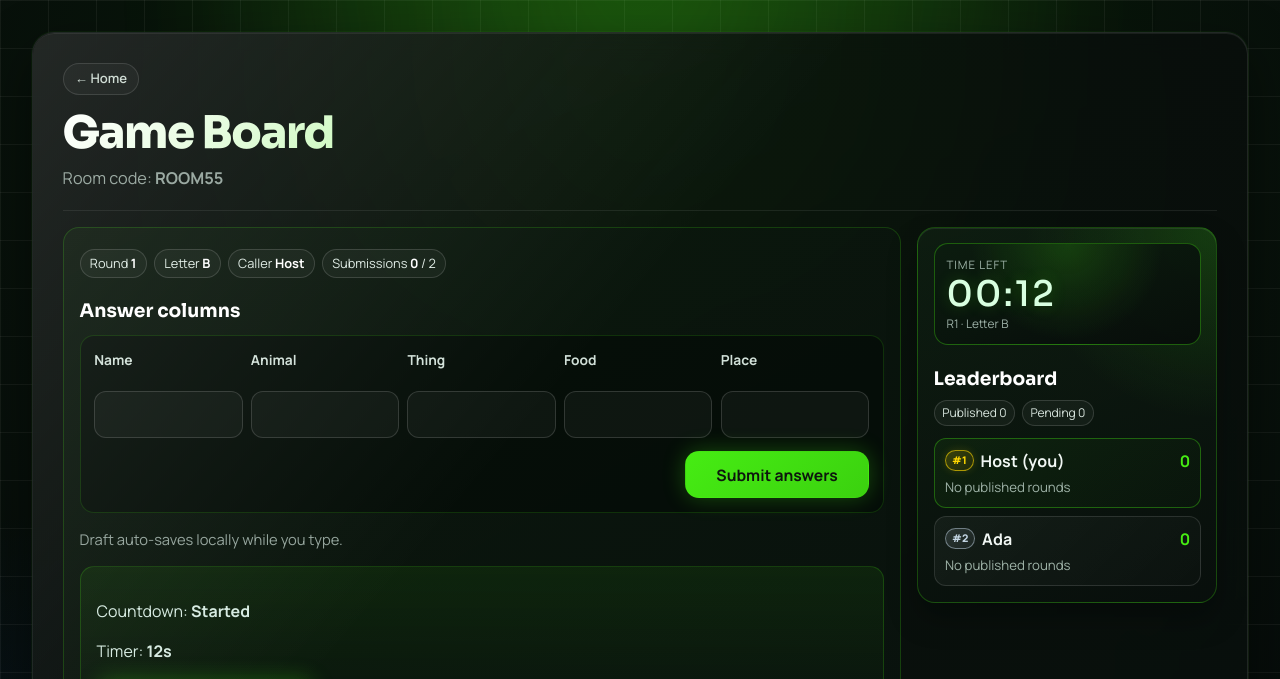
Test: functional: phase 2 round flow › recovers from submit response failure when server already recorded the submission
Type "Bola" into the 1st field named "Name" at (168, 415), box [94,391,242,438]
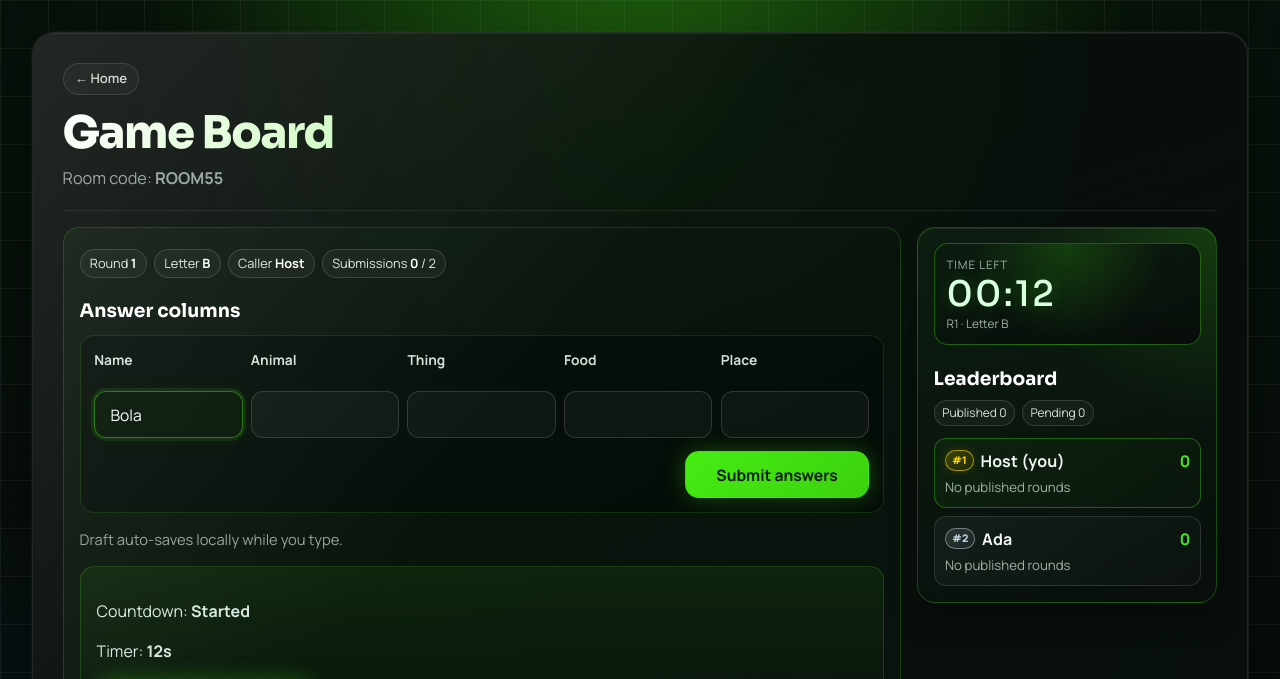
Click the button "Submit answers" at (777, 475), box [685,452,869,498]
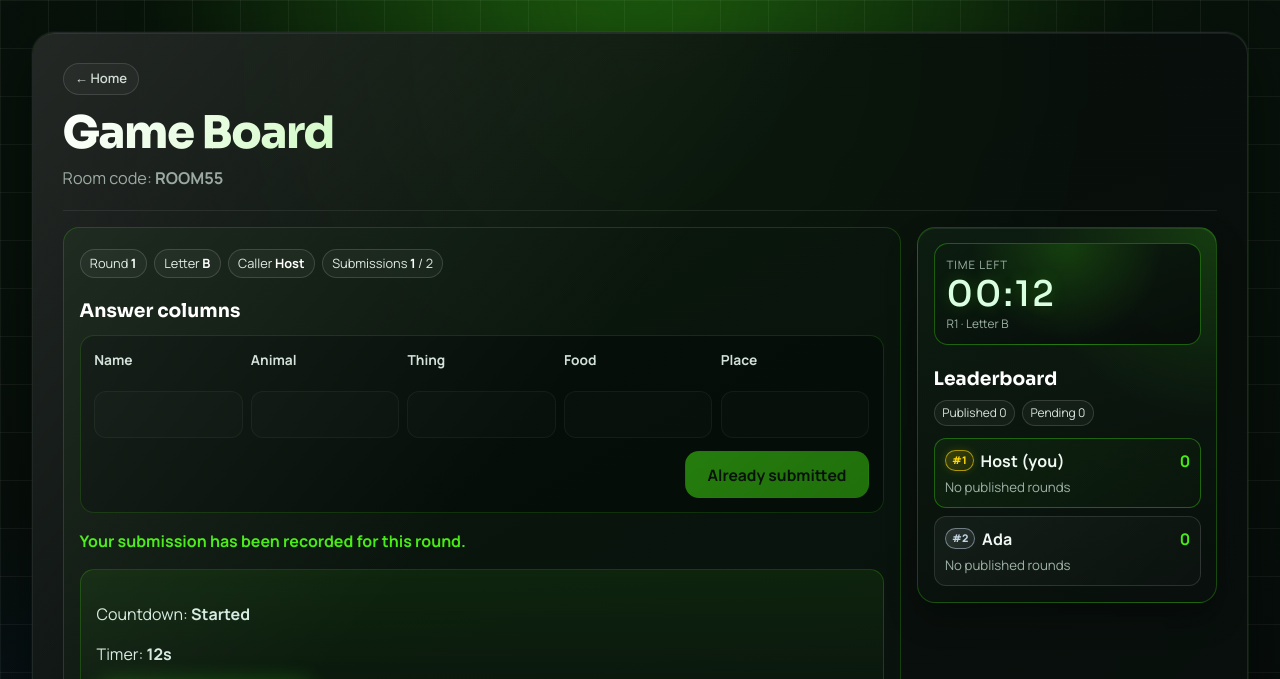
Expected: the text "Your submission has been recorded for this round." is shown, [80,530,466,552]
